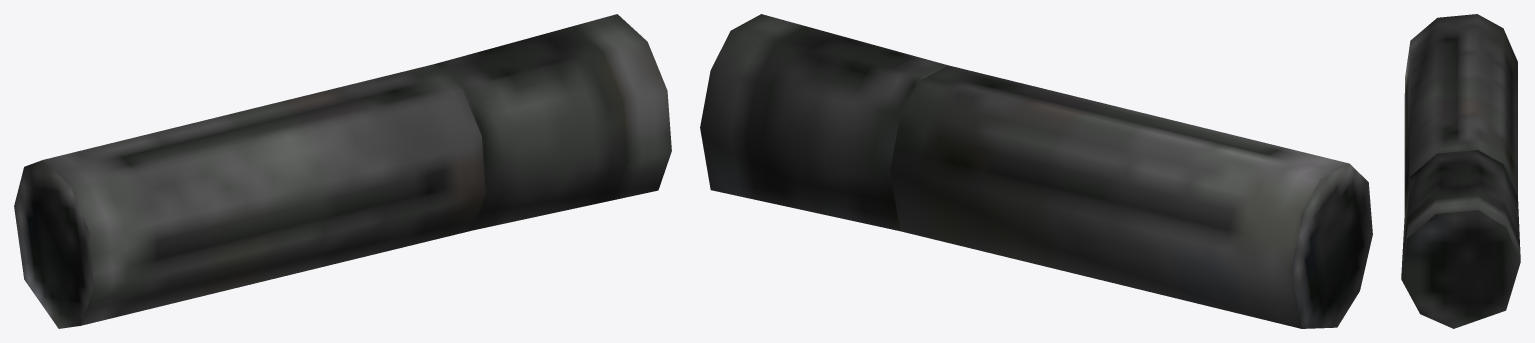
Rendered from Pickup_TpQub88Xsq.glb.
The picture shows the model from 3 angles, left to right: view 1: azimuth 30°, elevation 25°; view 2: azimuth 150°, elevation 25°; view 3: azimuth 270°, elevation 25°; orthographic projection. The views are drawn at different scales.
Visible parts, largest first — view 1: pk_tp_qub88_xsq; view 2: pk_tp_qub88_xsq; view 3: pk_tp_qub88_xsq.
Part boxes in pixels (<box>): pk_tp_qub88_xsq: <box>14,14,671,328</box>; pk_tp_qub88_xsq: <box>700,14,1372,328</box>; pk_tp_qub88_xsq: <box>1401,14,1520,328</box>.
Size of the model in its own units: 0.2135 by 0.0593 by 0.054.
1 material, 1 textured.
